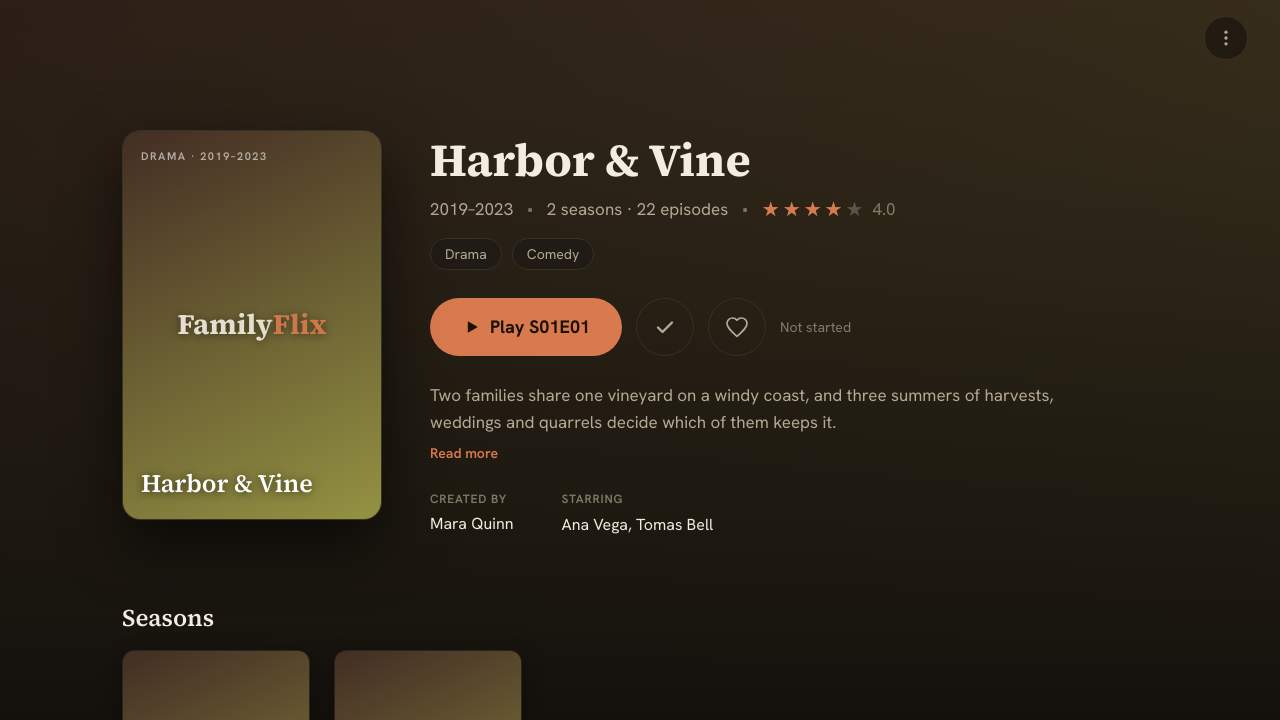
Scenario: SeriesDetail — deleting a linked show › lists a linked show’s files from the read’s deleteFacts
Click the button named "More options" at [1226, 38], box [1204, 16, 1248, 60]
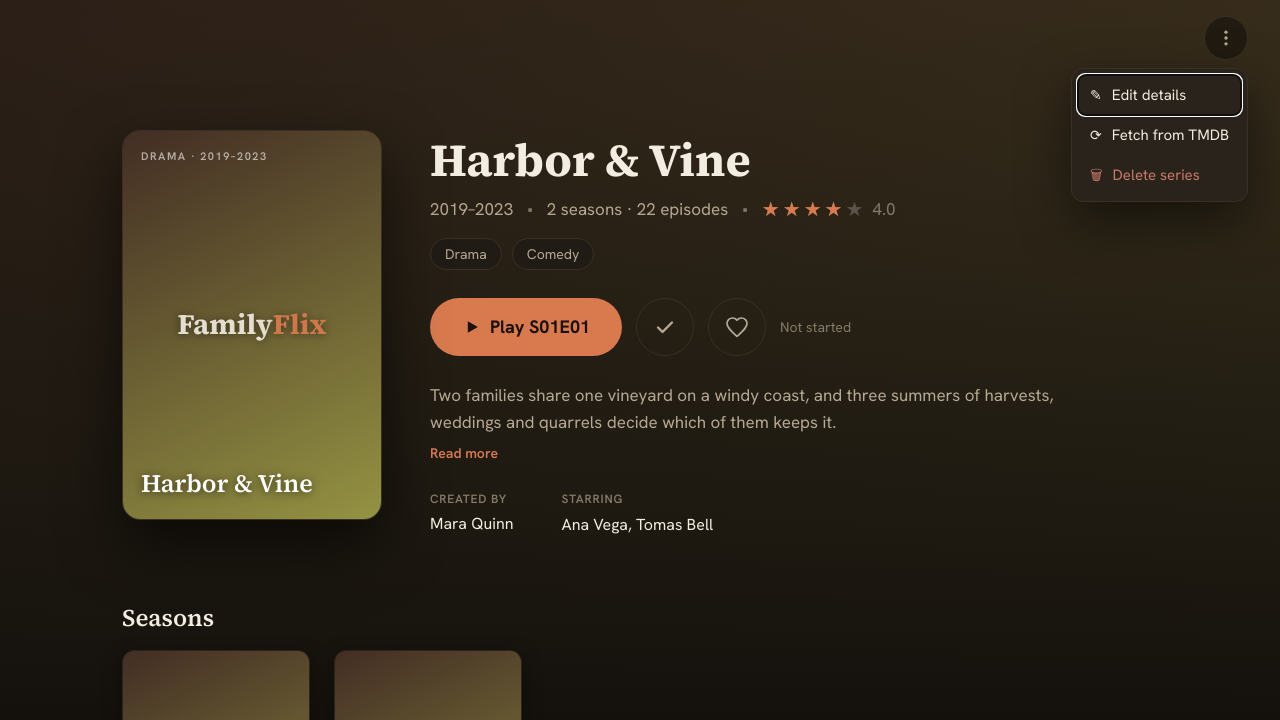
Click the menu item "🗑 Delete series" at [1160, 175], box [1078, 155, 1241, 195]
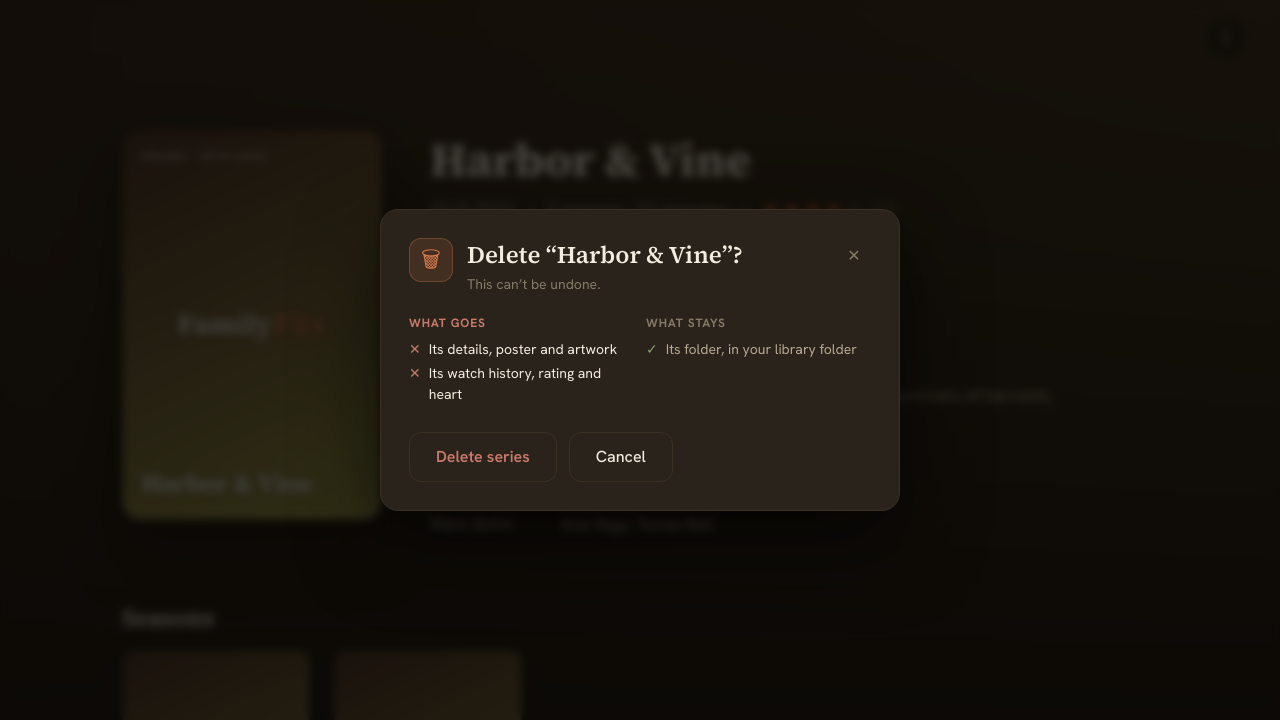
Now the list item "Its folder, in your library folder" is shown, box [646, 339, 871, 359]
